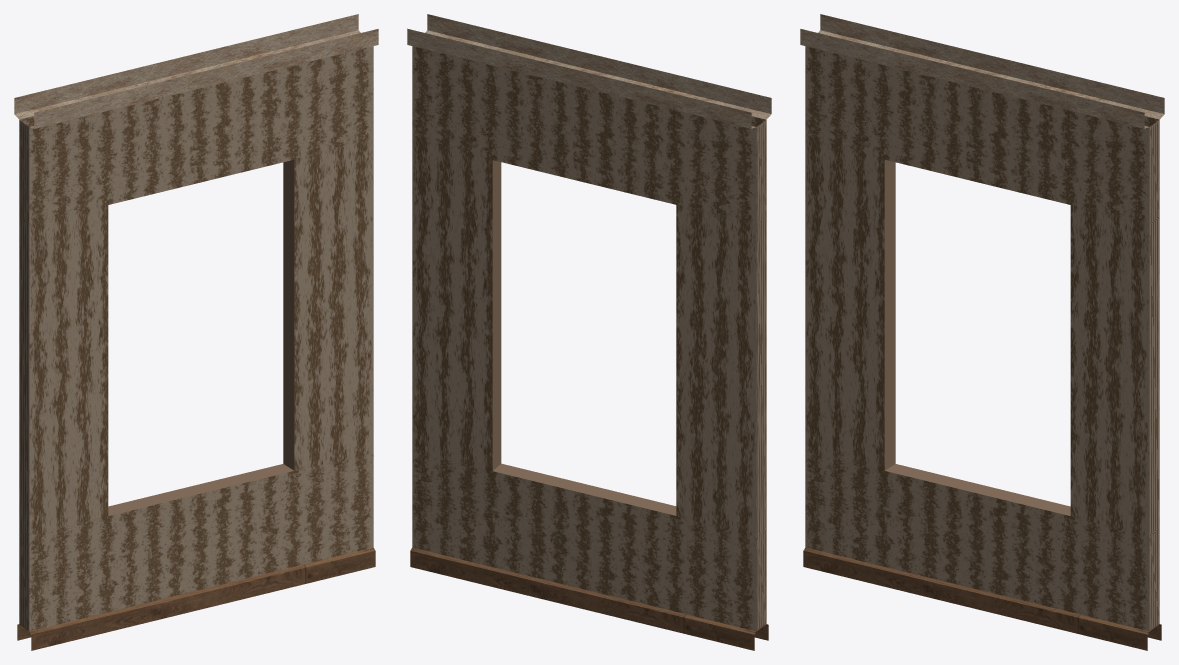
File: pared_corrediza_hueca_01.fbx
3 renders of one model, left to right at view 1: azimuth 30°, elevation 25°; view 2: azimuth 150°, elevation 25°; view 3: azimuth 330°, elevation 25°, orthographic.
Visible parts, largest first — view 1: pared_grande_01.004; view 2: pared_grande_01.004; view 3: pared_grande_01.004.
Boxes of the visible parts, bbox=[...] form: pared_grande_01.004: bbox=[14, 14, 378, 650]; pared_grande_01.004: bbox=[407, 14, 771, 650]; pared_grande_01.004: bbox=[800, 14, 1164, 650].
Bounding box in the file's own units: 200 × 300 × 20.2.
